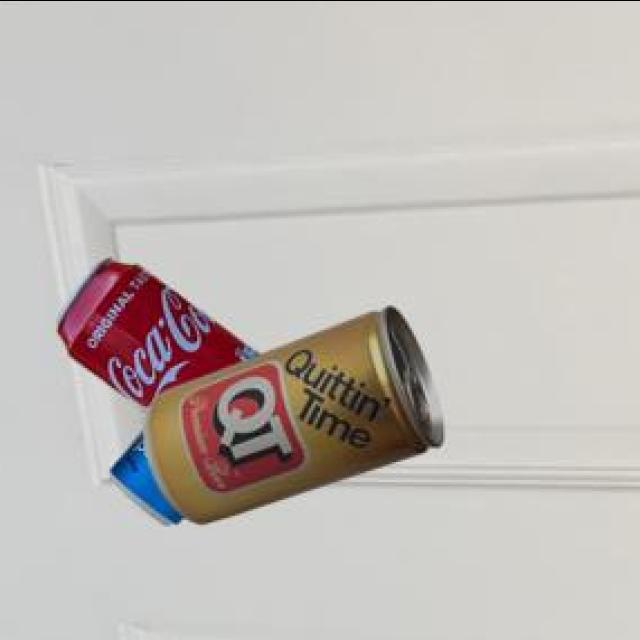logam: (147, 303, 446, 520), (62, 254, 263, 406), (115, 431, 187, 520)
